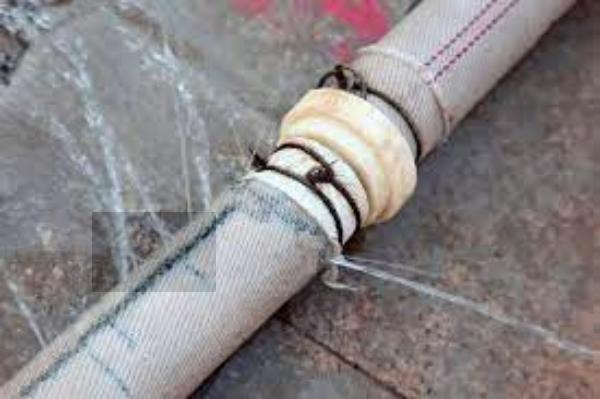water: (92, 212, 216, 292)
